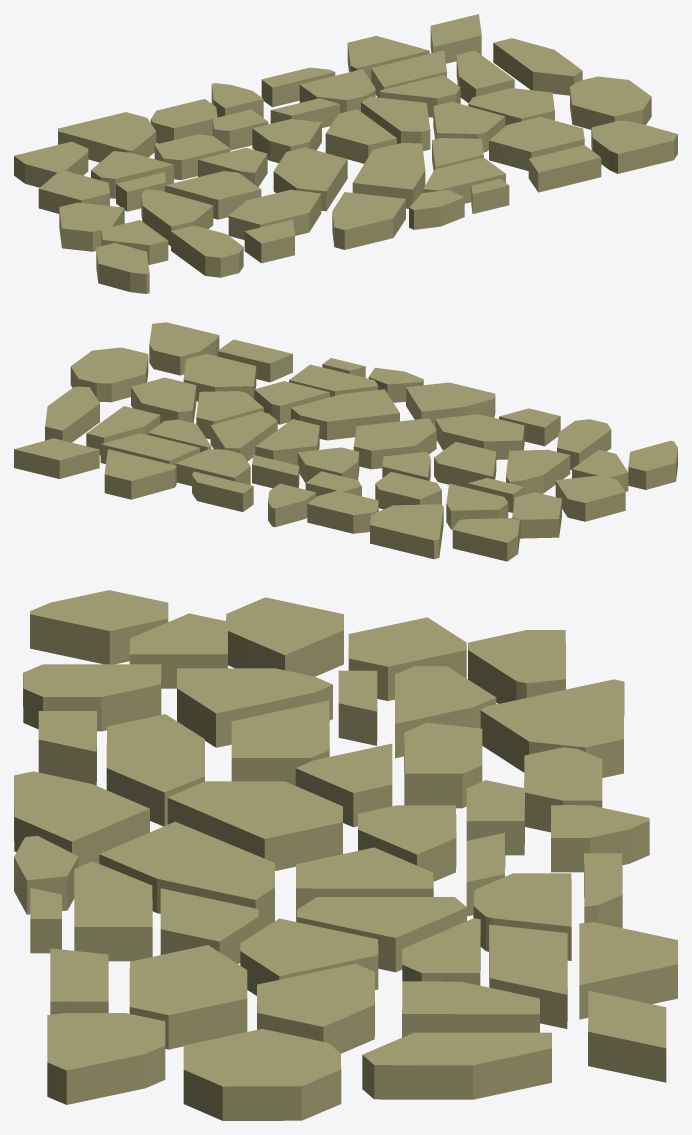
Rendered from Stone Path.fbx.
The picture shows the model from 3 angles, top to bottom: view 1: azimuth 30°, elevation 25°; view 2: azimuth 150°, elevation 25°; view 3: azimuth 270°, elevation 25°; orthographic projection. The views are drawn at different scales.
Parts seen in each view (by area): view 1: Path; view 2: Path; view 3: Path.
Part boxes in pixels (x1=…): Path: x1=14, y1=14, x2=677, y2=293; Path: x1=14, y1=322, x2=677, y2=561; Path: x1=14, y1=590, x2=677, y2=1120.
Bounding box in the file's own units: 106 × 187 × 6.05.
